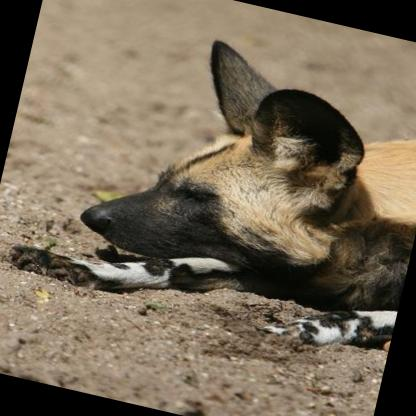African_hunting_dog: (4, 4, 416, 361)
